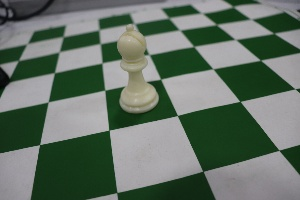white_bishop: (107, 16, 162, 114)
